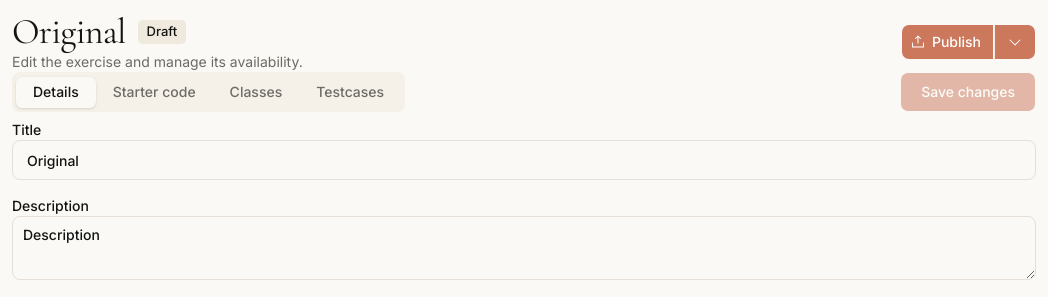
Test case: publishing an existing exercise with no testcases is blocked
Click the button "Publish" at (947, 42), box x1=901 y1=24 x2=994 y2=60
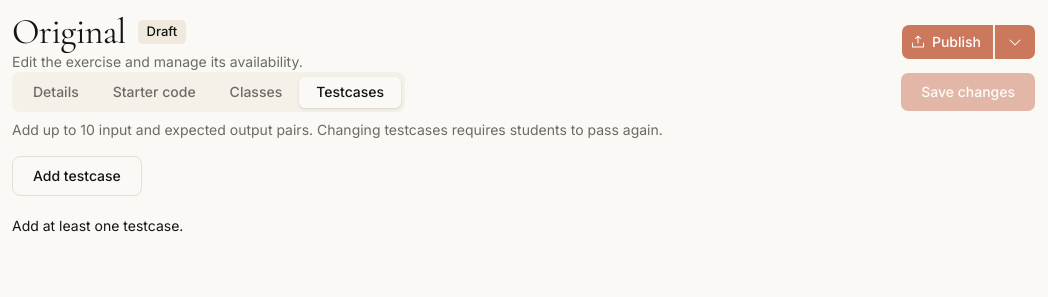
Expected: the text "Add at least one testcase." is shown, x1=12 y1=217 x2=183 y2=234
